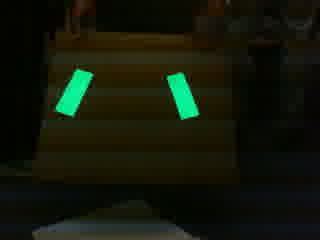target: (51, 71, 200, 122)
